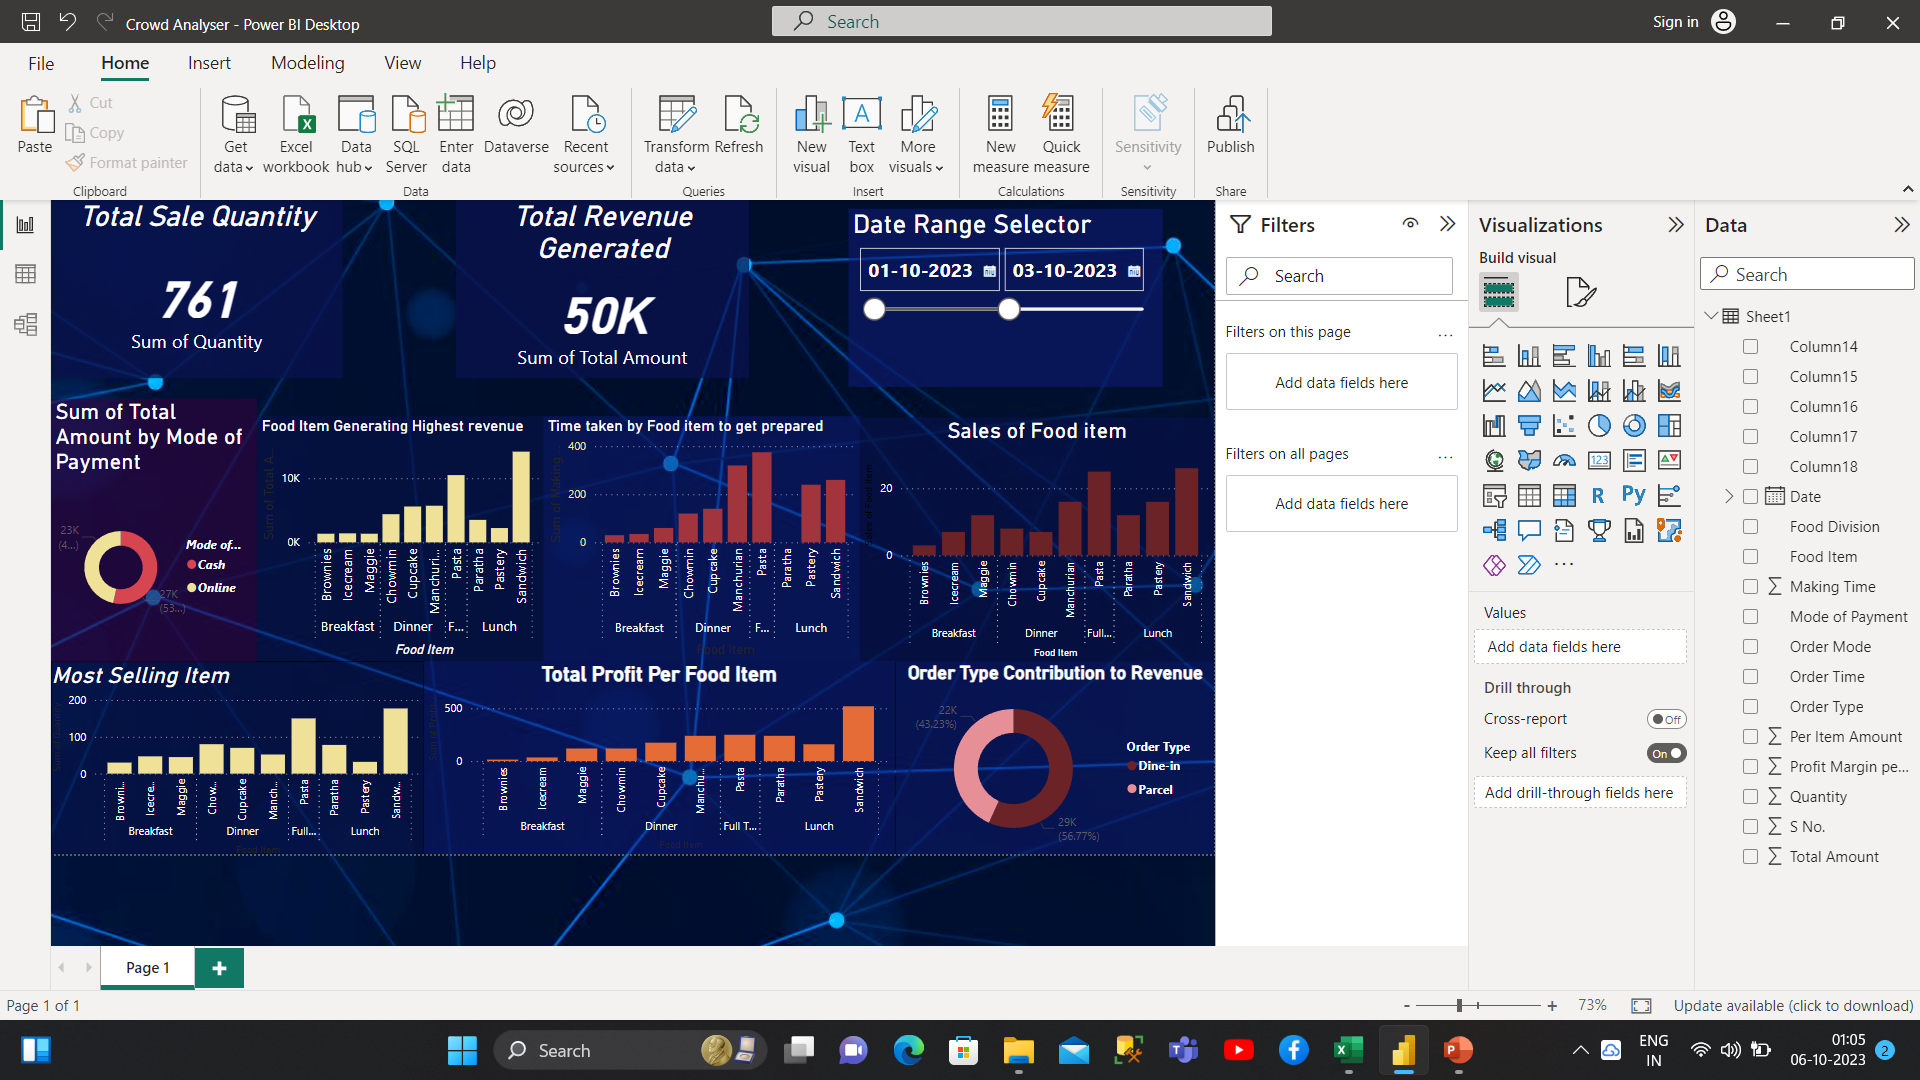

Layout of this report page (visuals, bound fields, positions):
{"tool":"powerbi","page":{"name":"Page 1","canvas":[1280,720],"ordinal":0},"visuals":[{"type":"card","title":"Total  Sale Quantity","fields":{"Values":["Sum(Sheet1.Quantity)"]},"box":[0,11.7,320.5,196.1],"z":0},{"type":"columnChart","title":"Most Selling Item","fields":{"Category":["Sheet1.Food Division","Sheet1.Food Item"],"Y":["Sum(Sheet1.Quantity)"]},"box":[0,507.7,410.3,212.7],"z":1000},{"type":"columnChart","title":"Food Item Generating Highest revenue","fields":{"Category":["Sheet1.Food Division","Sheet1.Food Item"],"Y":["Sum(Sheet1.Total Amount)"]},"box":[229.8,226.8,314.6,269.3],"z":2000},{"type":"columnChart","title":"Time taken by Food item to get prepared","fields":{"Category":["Sheet1.Food Division","Sheet1.Food Item"],"Y":["Sum(Sheet1.Making Time)"]},"box":[547.3,226.8,348.3,269.3],"z":3000},{"type":"slicer","title":"Date Range Selector","fields":{"Values":["Sheet1.Date"]},"box":[658.5,16.1,345.4,196.1],"z":4000},{"type":"donutChart","title":"Order Type Contribution to Revenue","fields":{"Category":["Sheet1.Order Type"],"Y":["Sum(Sheet1.Total Amount)"]},"box":[929.6,507.4,350.7,213.2],"z":5000},{"type":"donutChart","fields":{"Category":["Sheet1.Mode of Payment"],"Y":["Sum(Sheet1.Total Amount)"]},"box":[0,210.7,226.8,289.8],"z":6000},{"type":"clusteredColumnChart","title":"Total Profit  Per Food Item","fields":{"Category":["Sheet1.Food Division","Sheet1.Food Item"],"Y":["Sum(Sheet1.Profit Margin per Item)"]},"box":[410.3,507.7,518.7,212.7],"z":7000},{"type":"card","title":"Total  Revenue Generated","fields":{"Values":["Sum(Sheet1.Total Amount)"]},"box":[327.8,14.6,323.4,196.1],"z":8000},{"type":"slicer","fields":{"Values":["Sheet1.Food Division"]},"box":[987.8,13.2,291.2,197.6],"z":9000},{"type":"columnChart","title":"No. of order","fields":{"Category":["Sheet1.Food Item"],"Y":["CountNonNull(Sheet1.Food Item)"]},"box":[899.5,225.4,380.5,269.3],"z":10000}]}

Visuals, with their boxes on the page's 1280x720 design canvas (x1, y1, x2, y2). These are canvas units, not pixel positions in the 1920x1080 screenshot, which may show the page scaled, cropped or inside an application window:
"Total  Sale Quantity" card: crop(0, 12, 320, 208)
"Most Selling Item" columnChart: crop(0, 508, 410, 720)
"Food Item Generating Highest revenue" columnChart: crop(230, 227, 544, 496)
"Time taken by Food item to get prepared" columnChart: crop(547, 227, 896, 496)
"Date Range Selector" slicer: crop(658, 16, 1004, 212)
"Order Type Contribution to Revenue" donutChart: crop(930, 507, 1280, 721)
donutChart - Sheet1.Mode of Payment x Sum(Sheet1.Total Amount): crop(0, 211, 227, 500)
"Total Profit  Per Food Item" clusteredColumnChart: crop(410, 508, 929, 720)
"Total  Revenue Generated" card: crop(328, 15, 651, 211)
slicer - Sheet1.Food Division: crop(988, 13, 1279, 211)
"No. of order" columnChart: crop(900, 225, 1280, 495)
